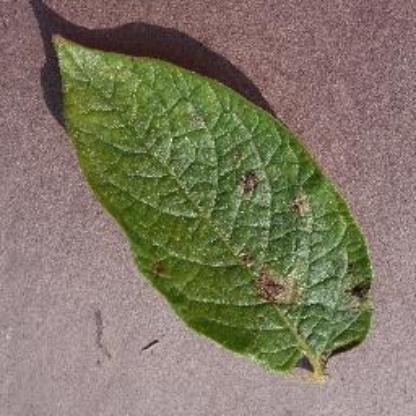Late-Blight: (40, 17, 384, 398)
